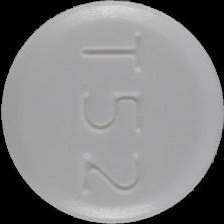51672-4022: (0, 0, 224, 224)
